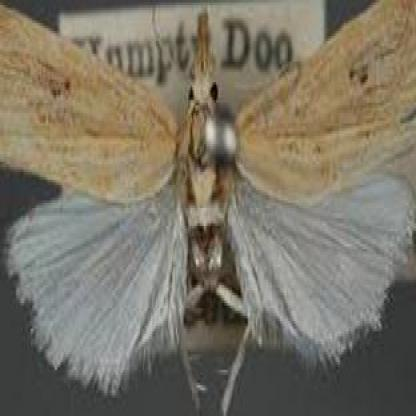stem-borer: (0, 0, 415, 414)
